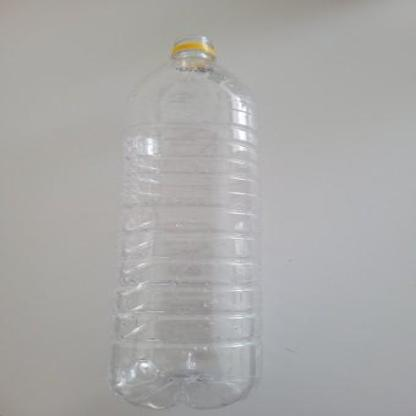Glass Bottle: (110, 36, 262, 410)
